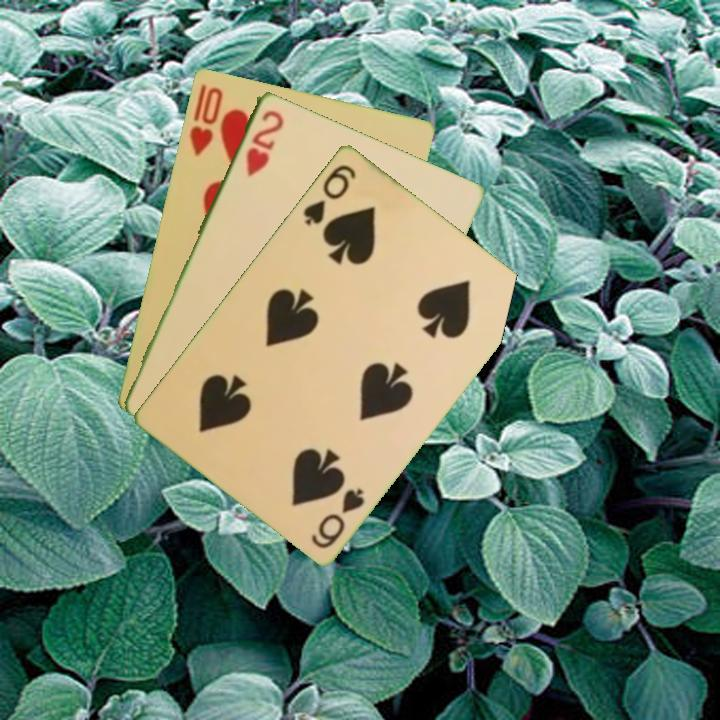10h: (185, 80, 226, 159)
2h: (242, 105, 287, 180)
6s: (307, 484, 368, 551), (299, 160, 359, 228)
